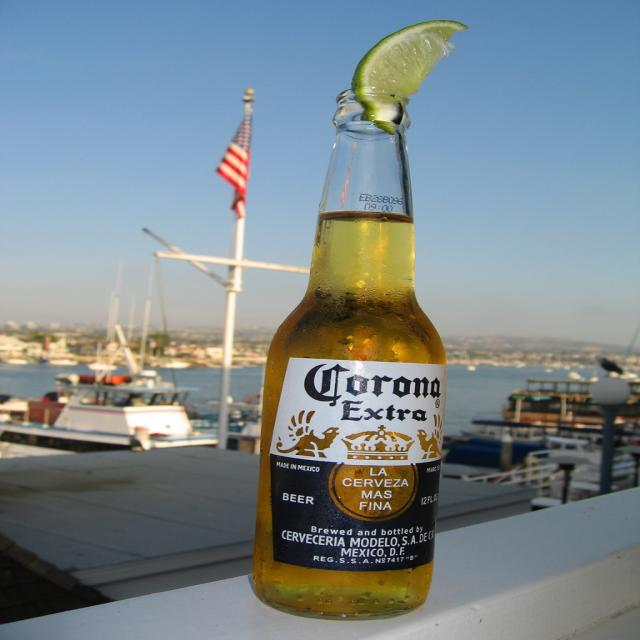corona: (270, 358, 449, 572)
